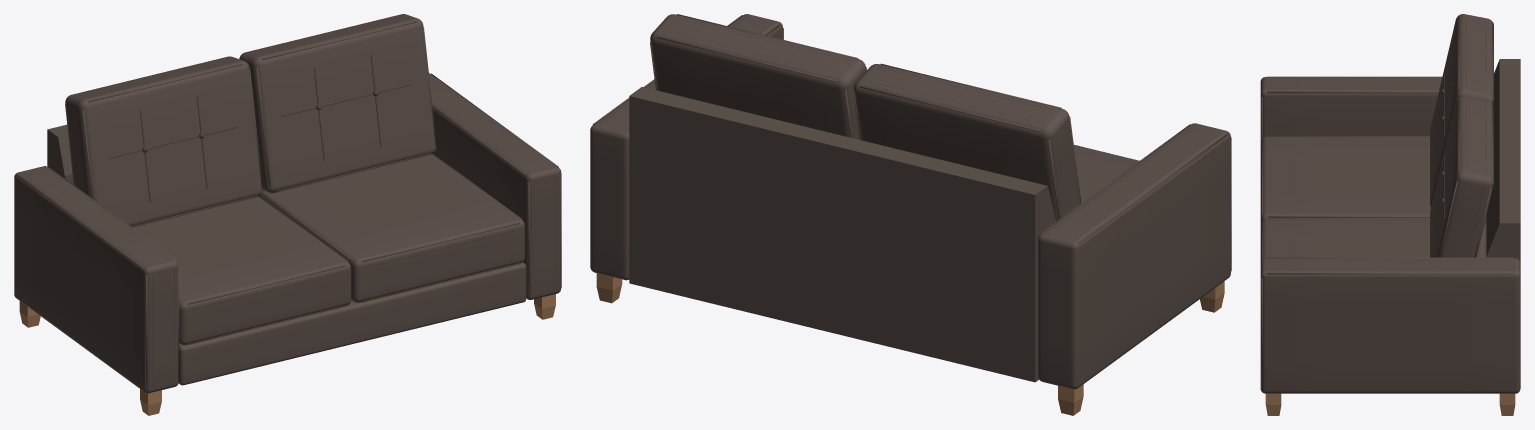
Rendered from benza_180x100.glb.
3 views of the same model, side by side, from view 1: azimuth 30°, elevation 25°; view 2: azimuth 150°, elevation 25°; view 3: azimuth 270°, elevation 25° (orthographic). The views are drawn at different scales.
Visible parts, largest first — view 1: p1, p2, p0; view 2: p1, p0, p2; view 3: p1, p2, p0.
Boxes of the visible parts, <box> form: p1: <box>14,14,561,393</box>; p2: <box>22,15,557,387</box>; p0: <box>19,294,555,415</box>; p1: <box>590,14,1231,389</box>; p0: <box>596,273,1224,415</box>; p2: <box>600,16,1220,239</box>; p1: <box>1260,14,1520,393</box>; p2: <box>1268,16,1512,269</box>; p0: <box>1265,393,1515,415</box>.
Bounding box in the file's own units: 1.8 × 0.9642 × 1.
Materials: 3 (2 with a texture image).
